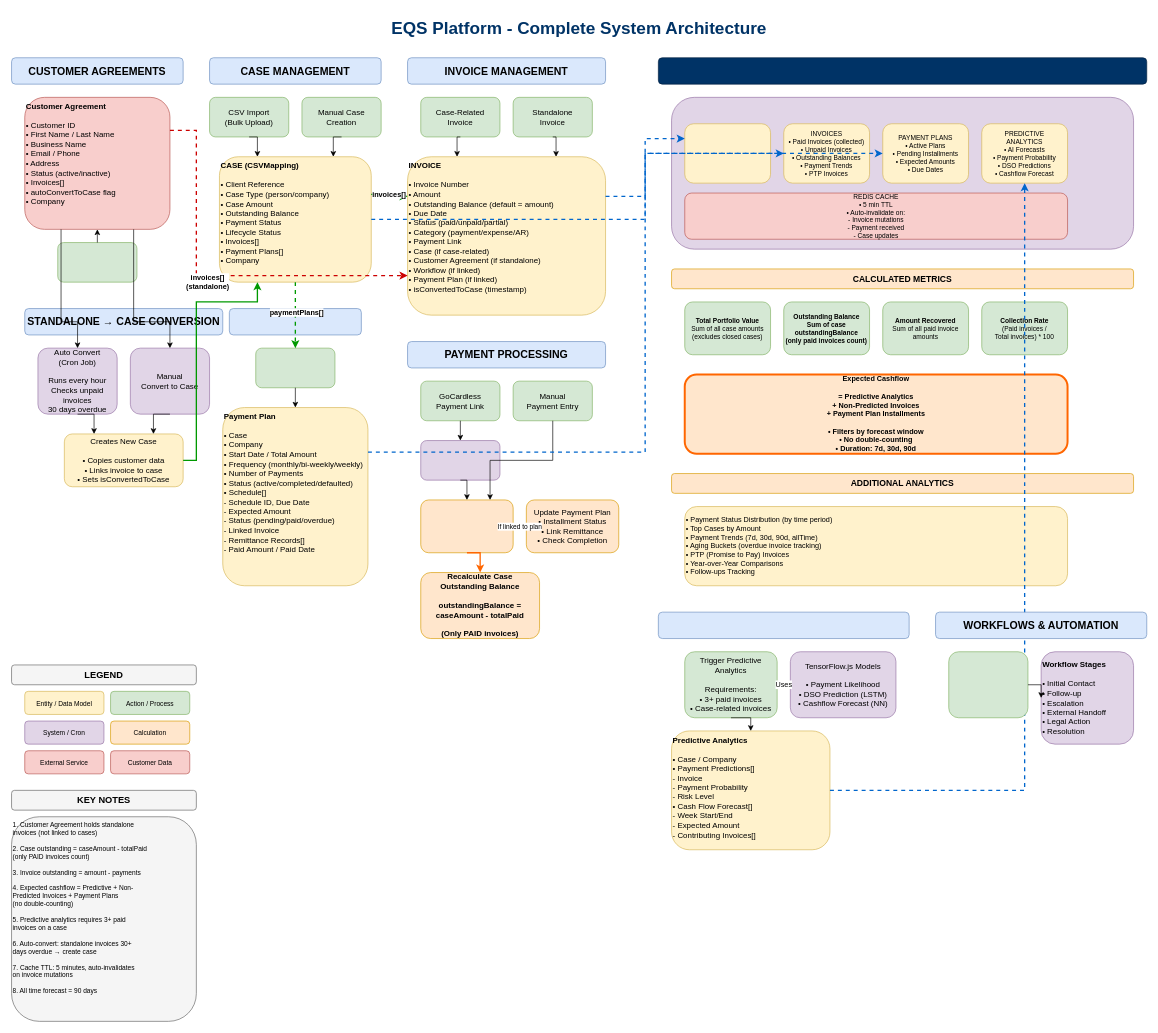
This 1158x1033 diagram has some shape labels left out. Here are the shapes that lost their labels. From the top down, the box of each, then its label:
(658, 57, 1147, 84): OVERALL ANALYTICS DASHBOARD
(684, 123, 771, 183): CASES • Total Cases • Total Amount • Outstanding Balance • Payment Status
(671, 97, 1134, 249): ANALYTICS AGGREGATION ENGINE Pulls data from:
(57, 242, 137, 282): Create Customer Agreement
(229, 308, 361, 335): PAYMENT PLANS
(255, 347, 335, 388): Create Payment Plan
(420, 440, 500, 480): GoCardless Webhook
(420, 499, 513, 553): Update Invoice • Status → paid • Outstanding Balance → 0 • Payment Date
(658, 611, 909, 639): PREDICTIVE ANALYTICS (AI)
(948, 651, 1028, 718): Workflow Trigger • Invoice creation • Status change • Payment received • Overdue
